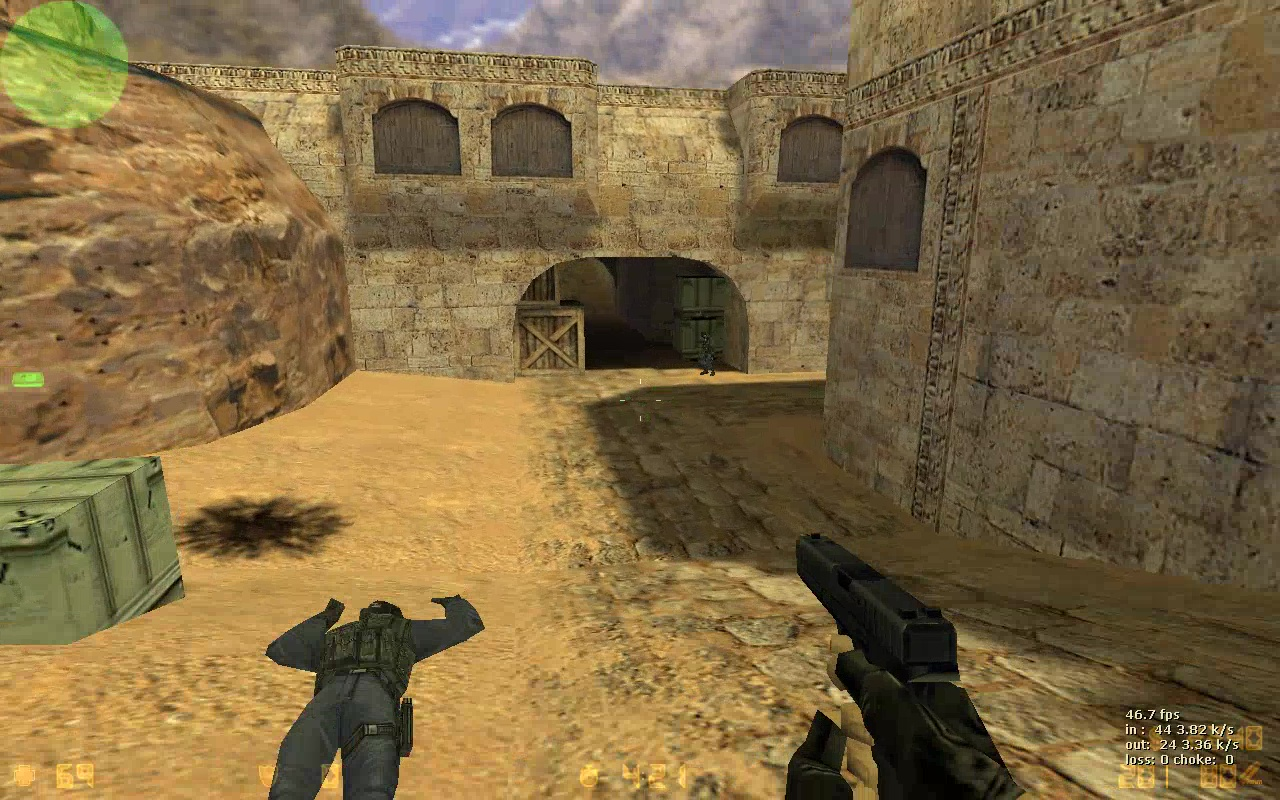ct: (693, 335, 721, 375)
dead: (261, 592, 490, 792)
